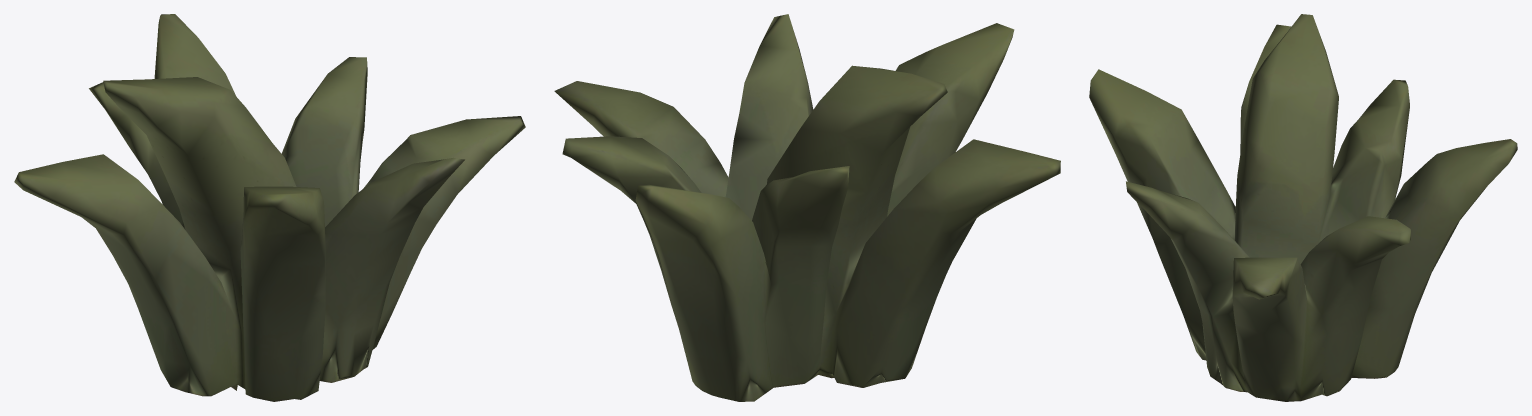
The model's file is blade_cluster.glb.
3 views of the same model, side by side, from view 1: azimuth 30°, elevation 25°; view 2: azimuth 150°, elevation 25°; view 3: azimuth 270°, elevation 25° (orthographic). The views are drawn at different scales.
Visible parts, largest first — view 1: tripo_node_83c78fe2-d90c-4db7-a507-be0d6146bc79; view 2: tripo_node_83c78fe2-d90c-4db7-a507-be0d6146bc79; view 3: tripo_node_83c78fe2-d90c-4db7-a507-be0d6146bc79.
Part boxes in pixels (<box>): tripo_node_83c78fe2-d90c-4db7-a507-be0d6146bc79: <box>14,14,525,401</box>; tripo_node_83c78fe2-d90c-4db7-a507-be0d6146bc79: <box>554,14,1060,401</box>; tripo_node_83c78fe2-d90c-4db7-a507-be0d6146bc79: <box>1089,14,1517,401</box>.
Size of the model in its own units: 0.9999 by 0.5926 by 0.8223.
Materials: 1 (1 with a texture image).
